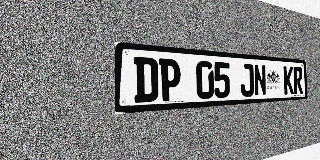0: (196, 60, 214, 99)
5: (214, 62, 230, 98)
D: (134, 57, 158, 103)
J: (240, 63, 254, 97)
K: (283, 66, 294, 95)
N: (254, 64, 266, 96)
P: (159, 58, 181, 101)
R: (293, 67, 303, 94)
